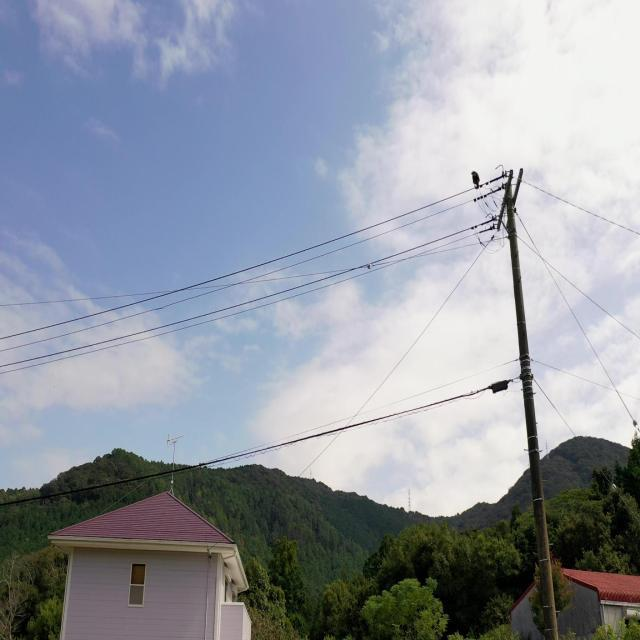Birds: (468, 164, 481, 192)
